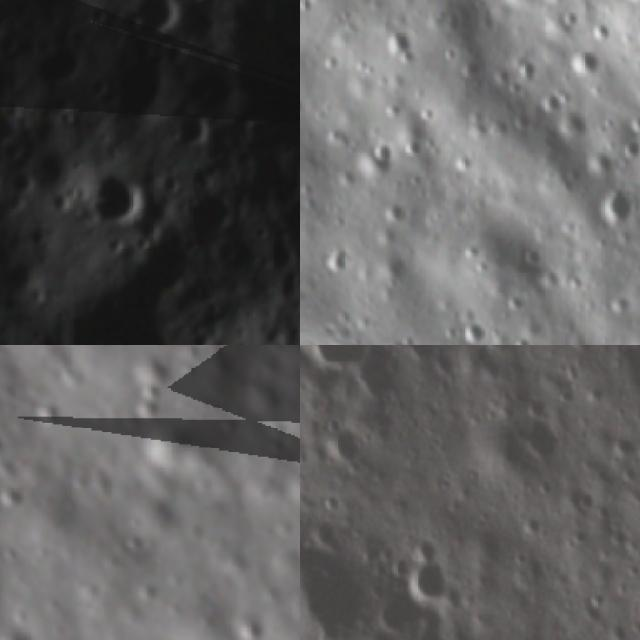crater: (300, 528, 388, 640), (112, 46, 184, 116), (392, 538, 463, 605), (579, 166, 640, 241), (84, 170, 151, 232), (556, 37, 615, 96), (32, 32, 90, 88), (309, 231, 364, 286), (182, 187, 240, 239), (356, 130, 410, 184), (301, 345, 378, 373), (372, 190, 418, 236), (126, 0, 182, 37), (173, 109, 219, 154), (447, 308, 498, 345), (0, 611, 59, 640), (1, 162, 41, 198), (300, 0, 344, 20), (370, 332, 433, 345), (395, 345, 446, 358)
